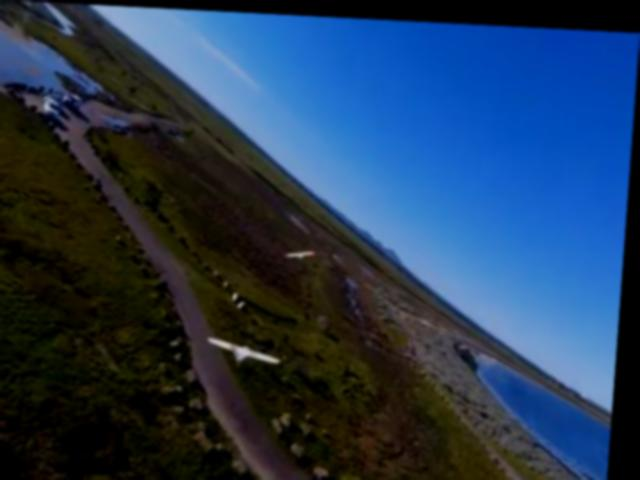uav: (209, 331, 290, 365), (287, 244, 325, 260)
